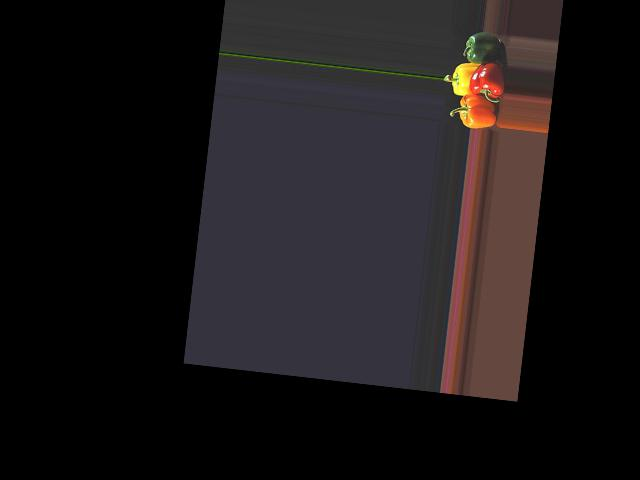bell_pepper: (452, 91, 504, 131)
